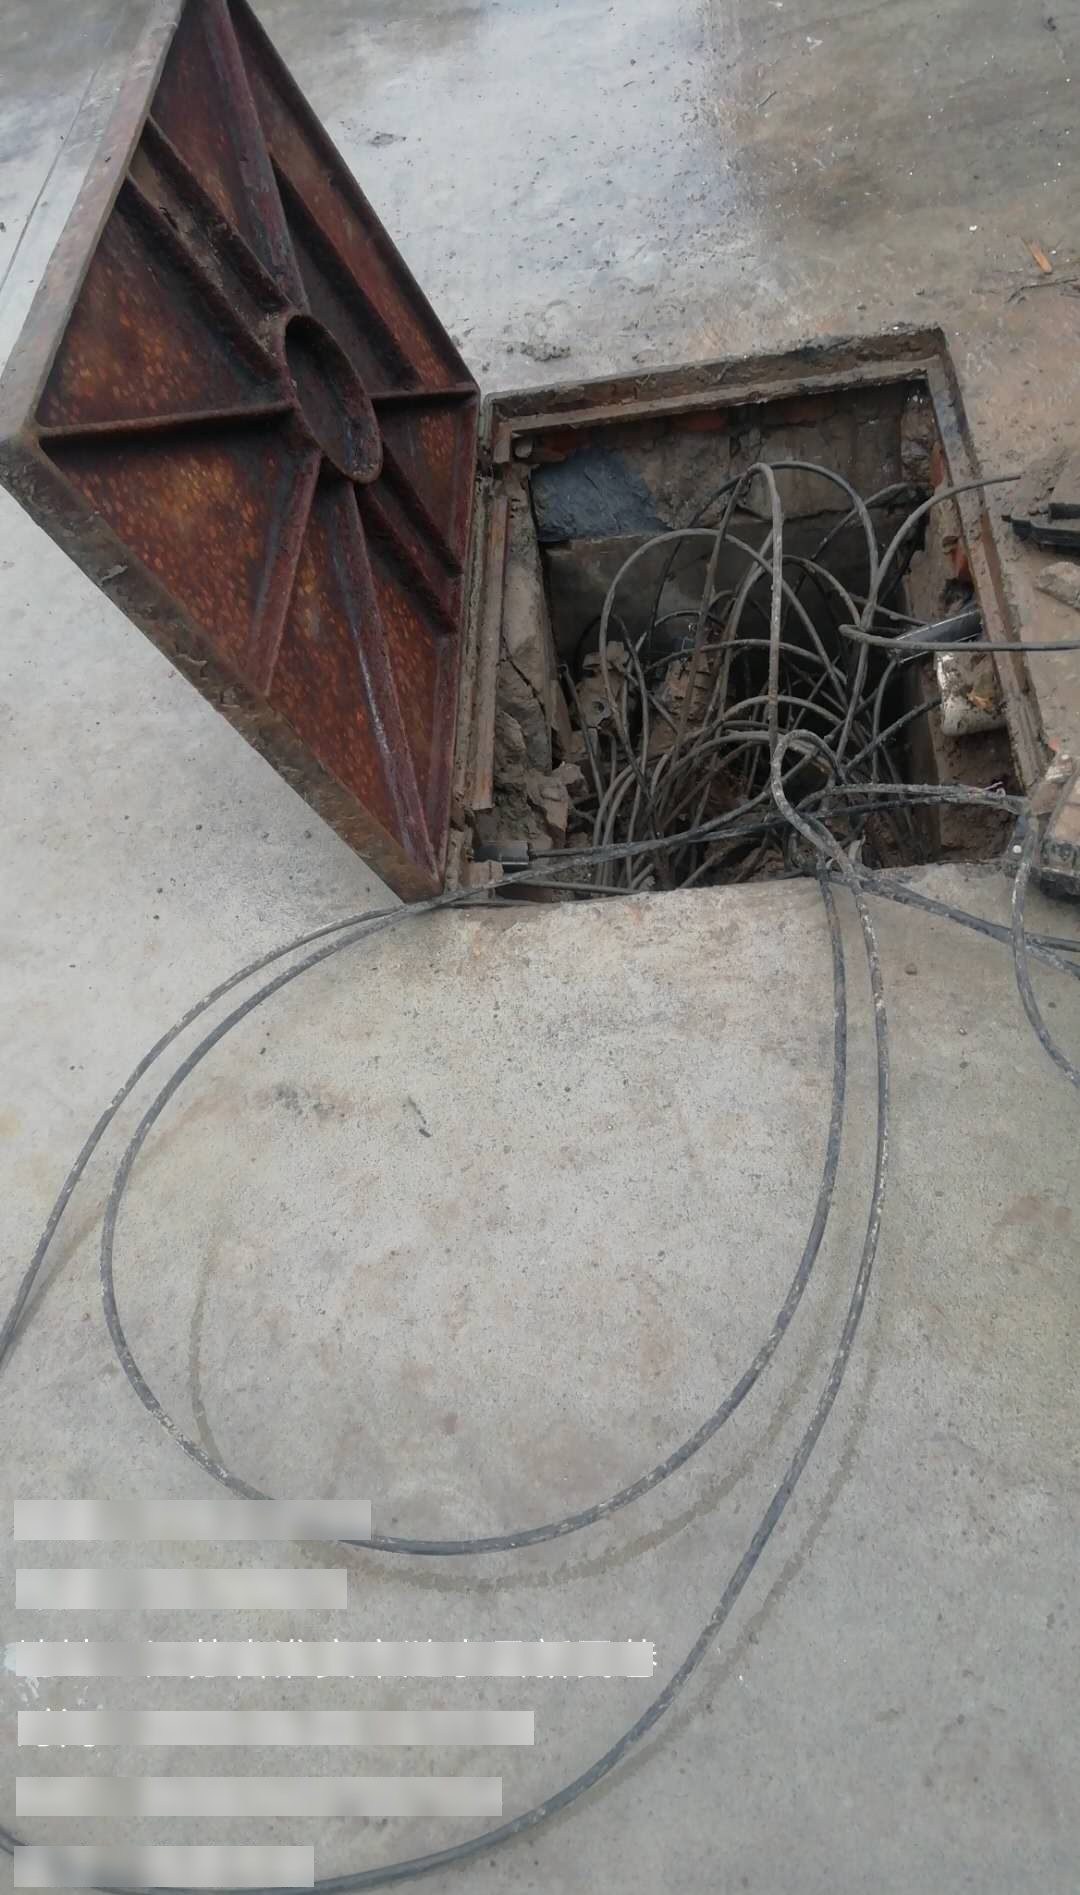uncovered: (13, 12, 1080, 918)
